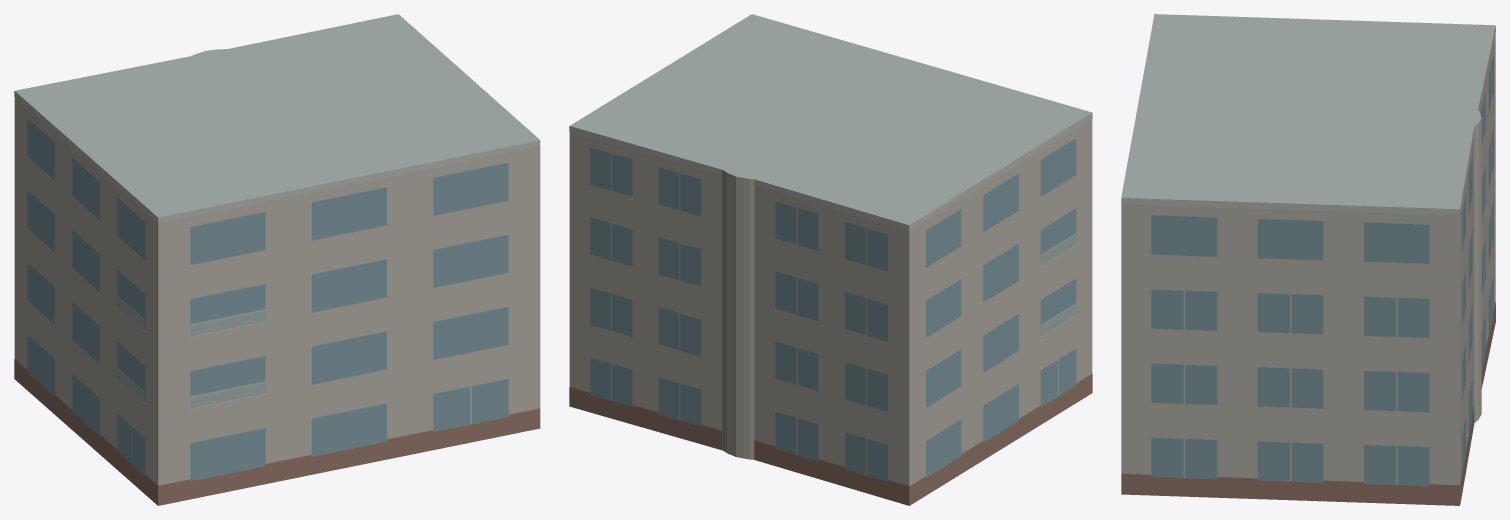
Rendered from survey-upis-33003024.glb.
3 renders of one model, left to right at view 1: azimuth 30°, elevation 25°; view 2: azimuth 150°, elevation 25°; view 3: azimuth 270°, elevation 25°, orthographic. The views are drawn at different scales.
Parts seen in each view (by area): view 1: survey-upis-33003024.tmp; view 2: survey-upis-33003024.tmp; view 3: survey-upis-33003024.tmp.
Boxes of the visible parts, x1,y1,x2,y2 form: survey-upis-33003024.tmp: (14,14,540,505); survey-upis-33003024.tmp: (569,14,1092,505); survey-upis-33003024.tmp: (1121,14,1495,505).
Bounding box in the file's own units: 15.89 × 11.25 × 12.89.
